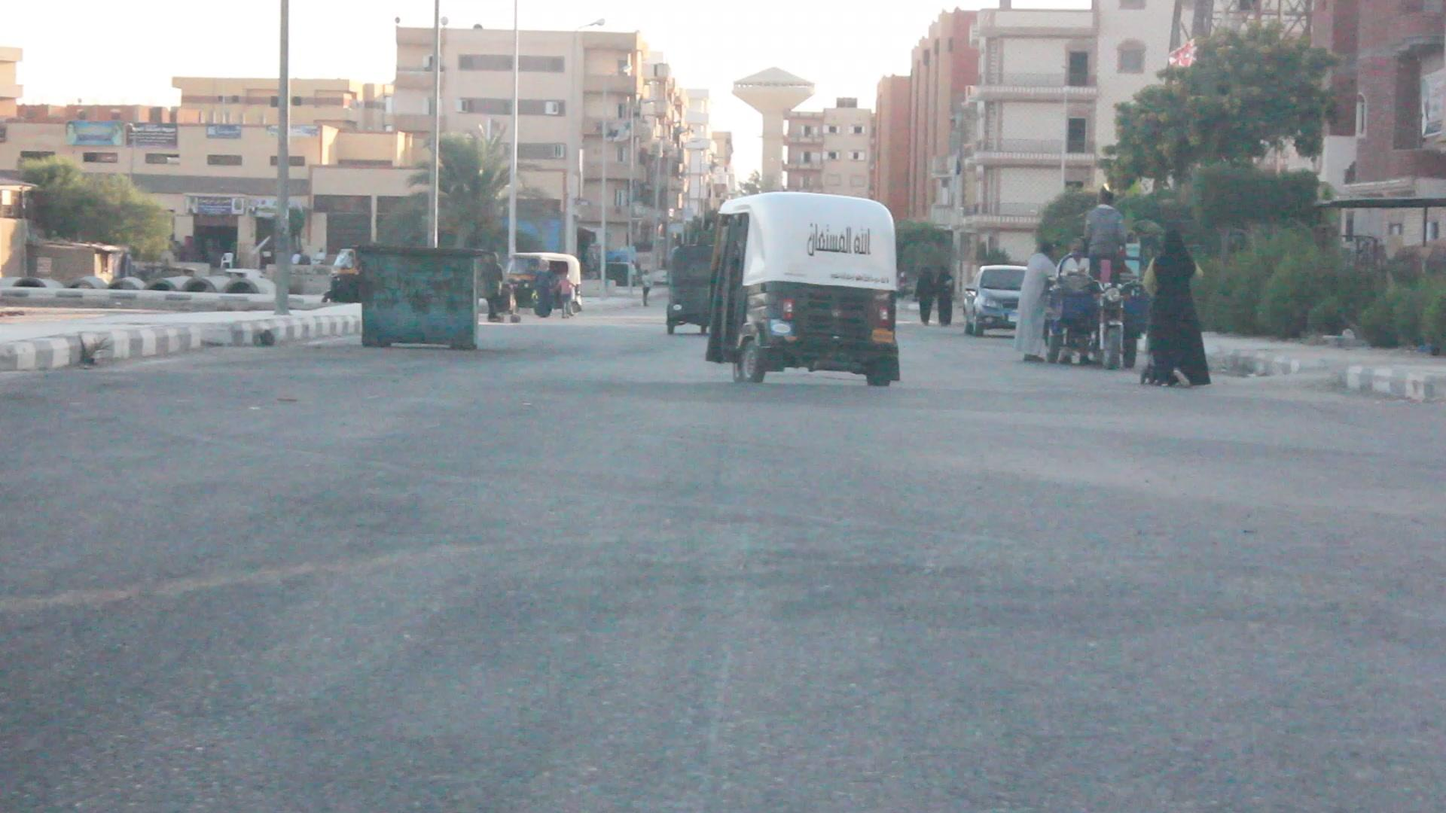Bump: (30, 359, 1446, 438)
